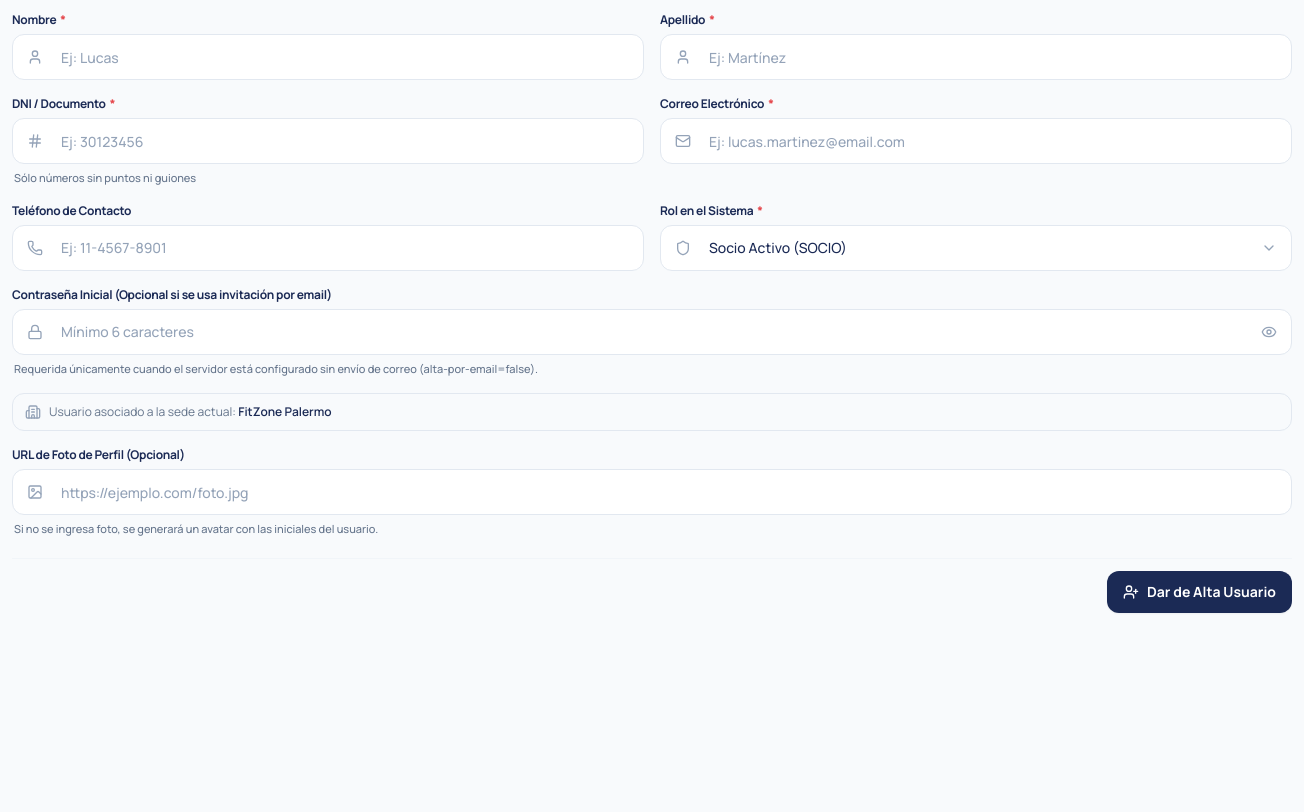
Test case: UsuarioForm Component › shows validation errors when submitting with empty fields
Click the button "Dar de Alta Usuario" at (1200, 592), box [1107,570,1292,612]
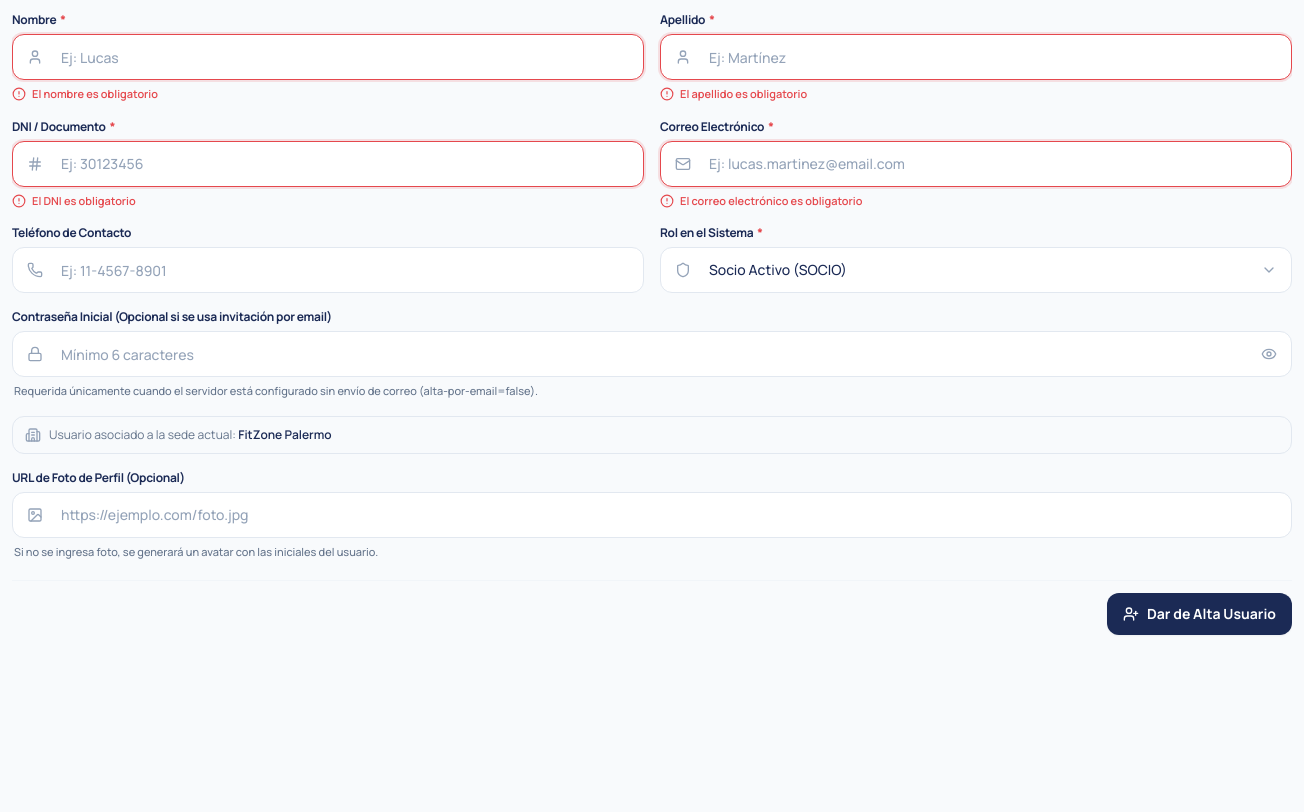
Check: the text "El nombre es obligatorio" is shown, box [32,86,158,102]
Check: the text "El apellido es obligatorio" is shown, box [680,86,807,102]
Check: the text "El DNI es obligatorio" is shown, box [32,192,136,209]
